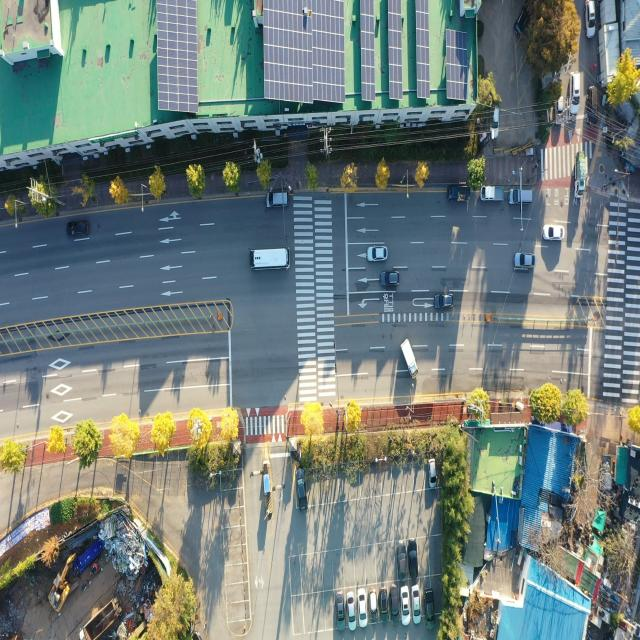car: (513, 0, 530, 46), (294, 469, 306, 511), (587, 87, 599, 128), (570, 73, 581, 116), (508, 189, 532, 207), (585, 0, 596, 39), (514, 251, 536, 270), (410, 540, 420, 580), (68, 220, 90, 238), (397, 543, 408, 578), (425, 588, 435, 626), (542, 226, 564, 243), (268, 192, 290, 209), (366, 245, 387, 262), (358, 589, 367, 628), (348, 591, 357, 630), (413, 586, 422, 624), (400, 587, 409, 625), (391, 584, 400, 622), (337, 592, 346, 630), (436, 292, 456, 309), (380, 590, 390, 621), (491, 107, 500, 140), (381, 272, 399, 288), (488, 108, 497, 140), (429, 457, 438, 486), (369, 590, 377, 620), (556, 99, 563, 125)
large_bus: (252, 249, 291, 272)
medium_truck: (81, 598, 124, 640)
small_truck: (400, 339, 417, 378), (573, 151, 585, 199), (600, 453, 613, 492), (482, 187, 506, 204), (449, 184, 471, 202)
